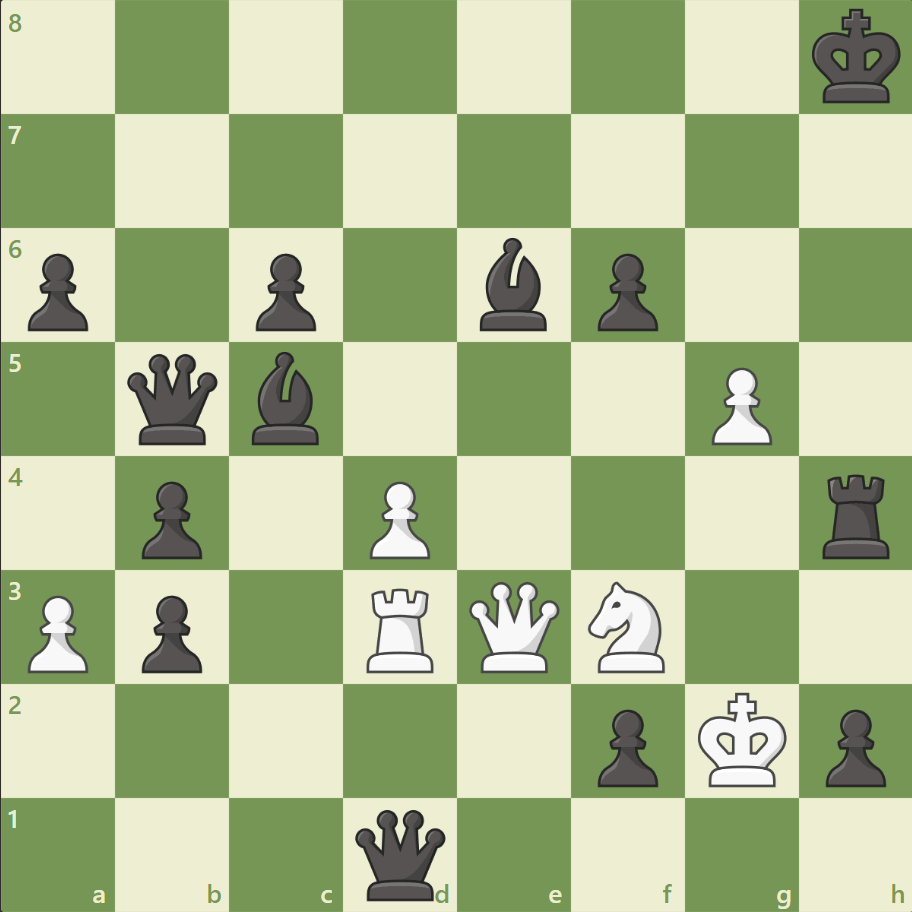K: (692, 685, 792, 793)
N: (579, 575, 676, 677)
P: (701, 359, 776, 450), (20, 586, 95, 677), (361, 473, 435, 564)
Q: (464, 576, 563, 676)
R: (360, 579, 442, 676)
b: (471, 233, 555, 336), (244, 347, 328, 449)
k: (806, 4, 906, 112)
p: (20, 246, 95, 337), (247, 246, 322, 337), (133, 473, 208, 564), (133, 586, 208, 677), (588, 246, 662, 337), (588, 700, 662, 791), (815, 700, 889, 791)
q: (124, 349, 223, 449), (351, 804, 450, 903)
r: (814, 466, 897, 563)
